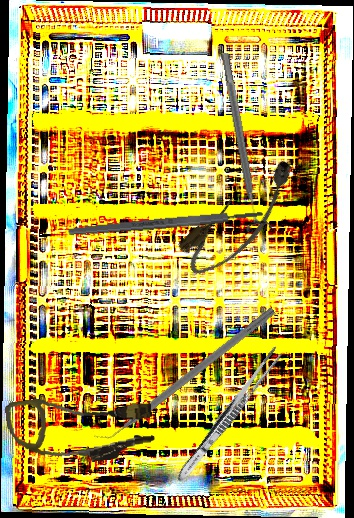Cannula: (172, 151, 312, 285), (4, 385, 157, 472)
Chopper: (91, 297, 276, 449)
Dressing Forceps: (172, 343, 286, 486)
Fixation Ring: (211, 50, 274, 234)
Scalpel Handle: (66, 208, 265, 238)
